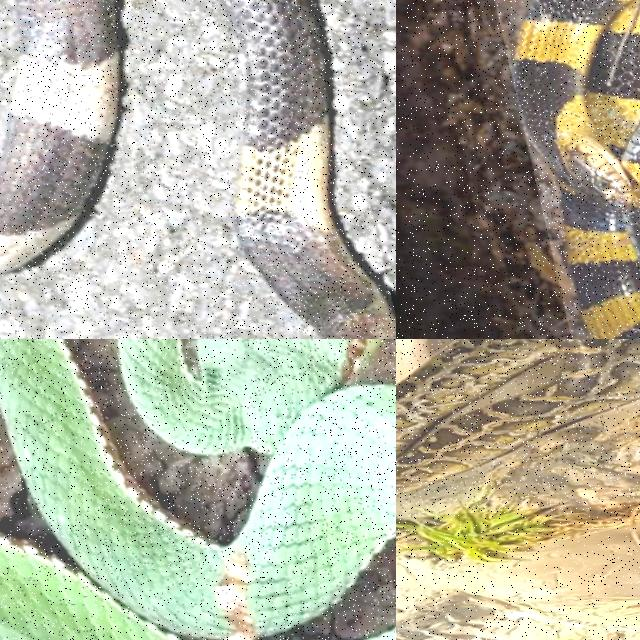Bungarus candidus: (218, 0, 395, 338)
Bungarus fasciatus: (513, 0, 639, 338)
Python bivittatus: (396, 339, 639, 495)
Trimeresurus: (0, 339, 395, 639)
snake: (0, 339, 395, 639), (218, 0, 395, 338), (513, 0, 639, 338), (396, 339, 639, 495)
